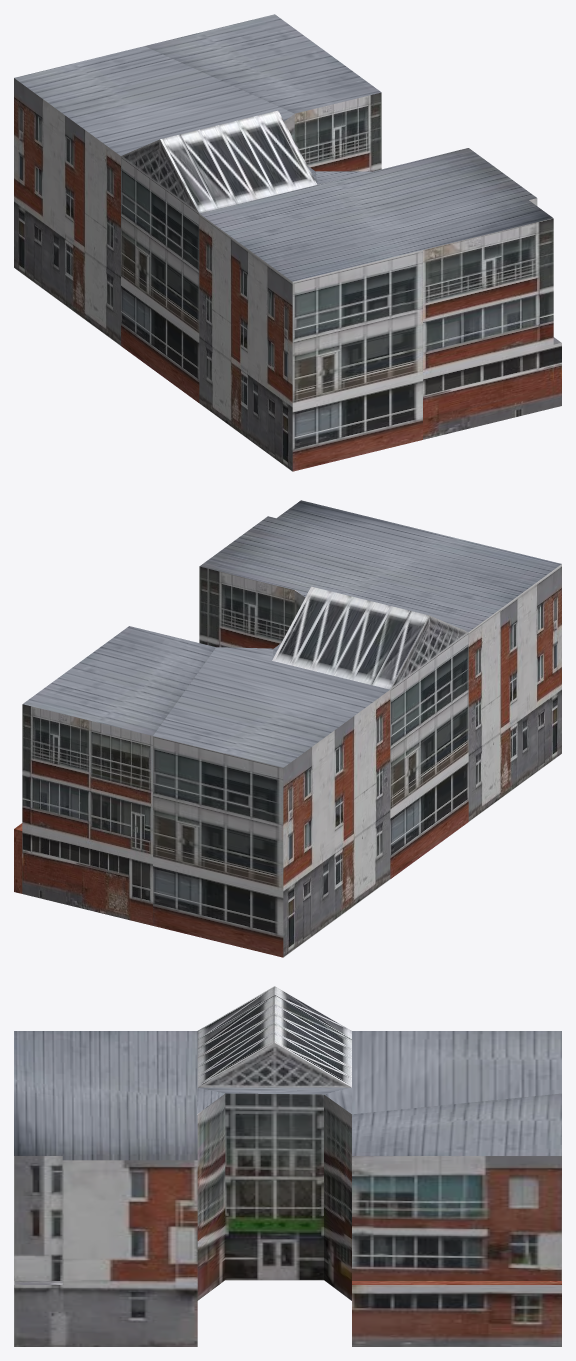
File: commercial.glb
3 views of the same model, one above another, from view 1: azimuth 30°, elevation 25°; view 2: azimuth 150°, elevation 25°; view 3: azimuth 270°, elevation 25° (orthographic).
Parts seen in each view (by area): view 1: Cube_Material.001_0; view 2: Cube_Material.001_0; view 3: Cube_Material.001_0.
Boxes of the visible parts, box(x1,y1,x2,y2) form: Cube_Material.001_0: box(14, 14, 561, 471); Cube_Material.001_0: box(14, 500, 561, 957); Cube_Material.001_0: box(14, 986, 561, 1346).
Size of the model in its own units: 11.17 by 9.32 by 20.
Materials: 1 (1 with a texture image).
